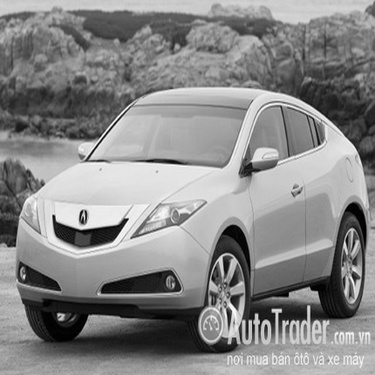car: (13, 77, 371, 360)
